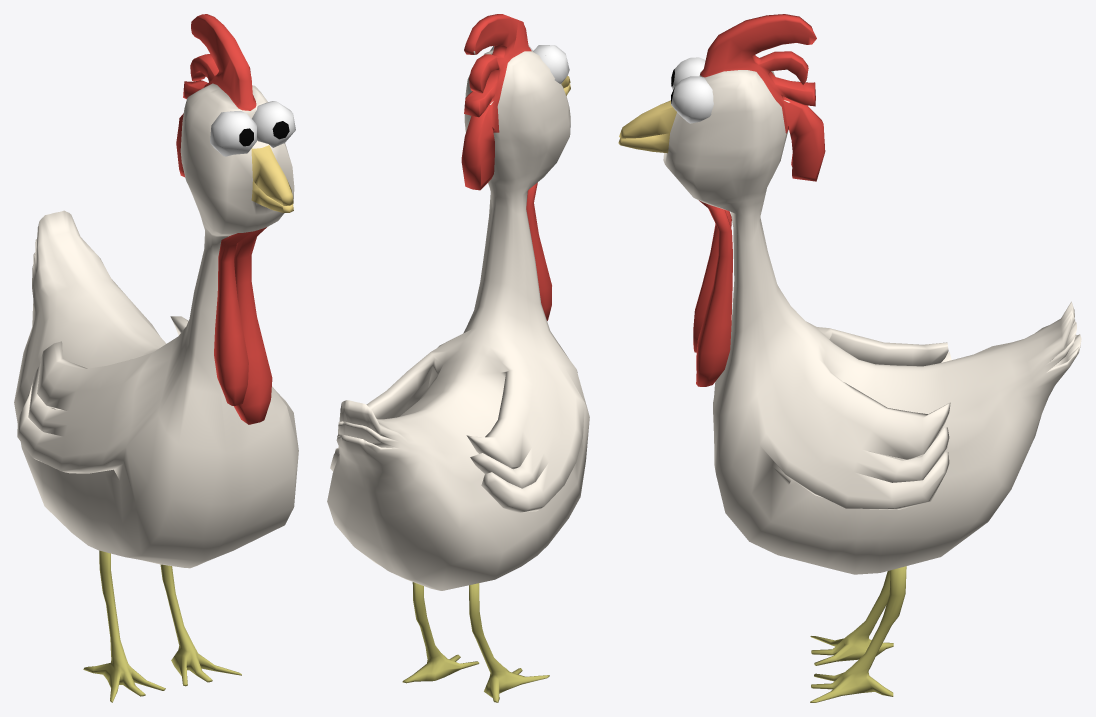
Rendered from Hen_3.fbx.
3 views of the same model, side by side, from view 1: azimuth 30°, elevation 25°; view 2: azimuth 150°, elevation 25°; view 3: azimuth 270°, elevation 25° (orthographic). The views are drawn at different scales.
Parts seen in each view (by area): view 1: Cylinder; view 2: Cylinder; view 3: Cylinder.
Part boxes in pixels (x1,y1,x2,y2): Cylinder: (14,14,298,702); Cylinder: (327,14,589,702); Cylinder: (618,14,1081,702).
Size of the model in its own units: 120 by 359 by 226.
1 material, 1 textured.
